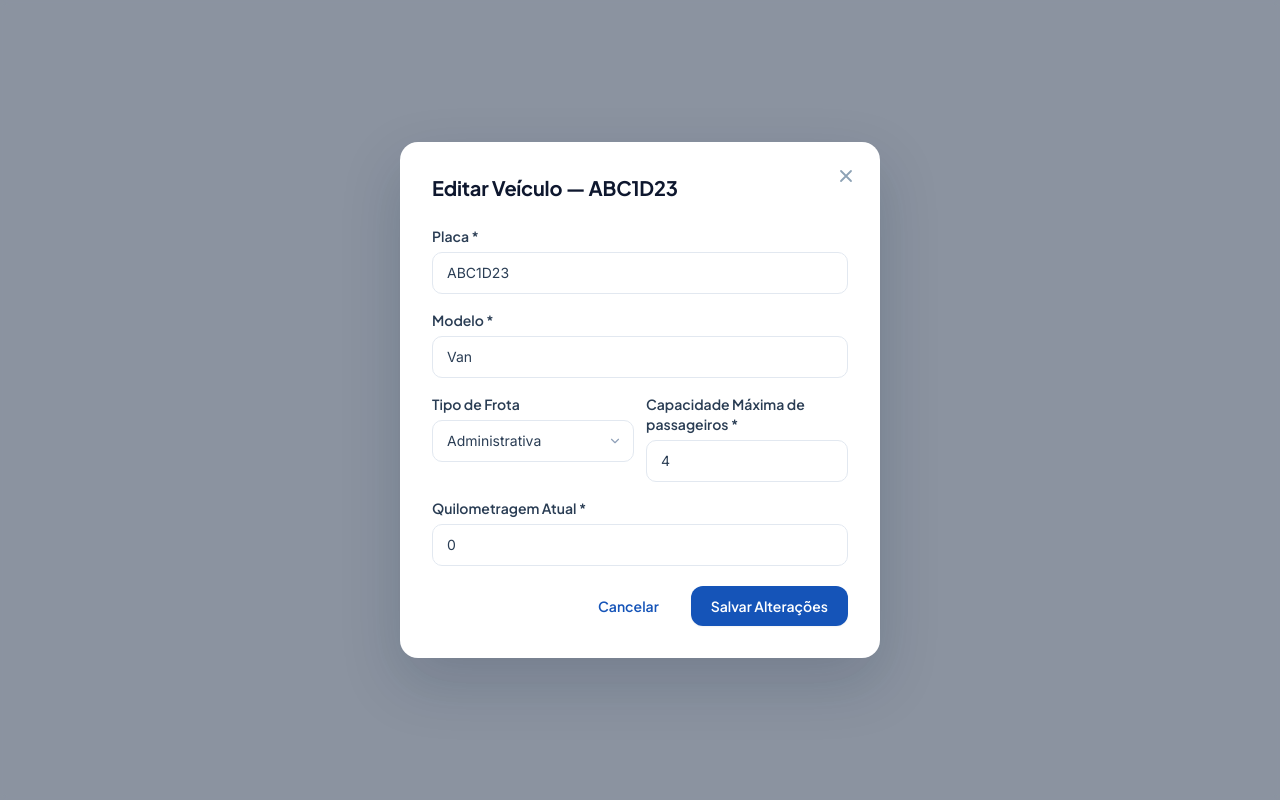
it: ModalVeiculo: duas capacidades SVO (SCRUM-173) › exige cabine ao converter veículo administrativo para SVO
Later steps or results of the test are not shown.
Select "SVO" in the dropdown labelled "Tipo de Frota" at (533, 441), box [432,420,634,462]
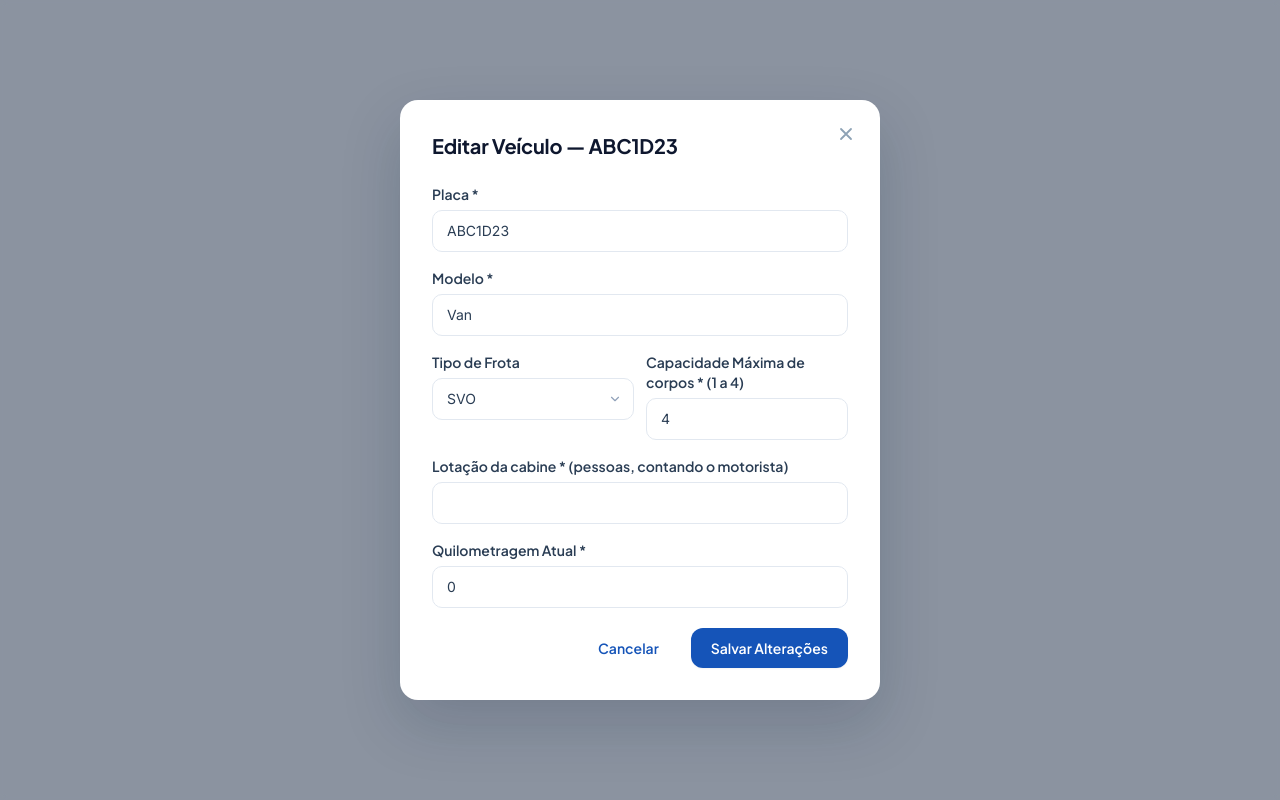
Click the button "Salvar Alterações" at (769, 648), box [691,628,848,668]
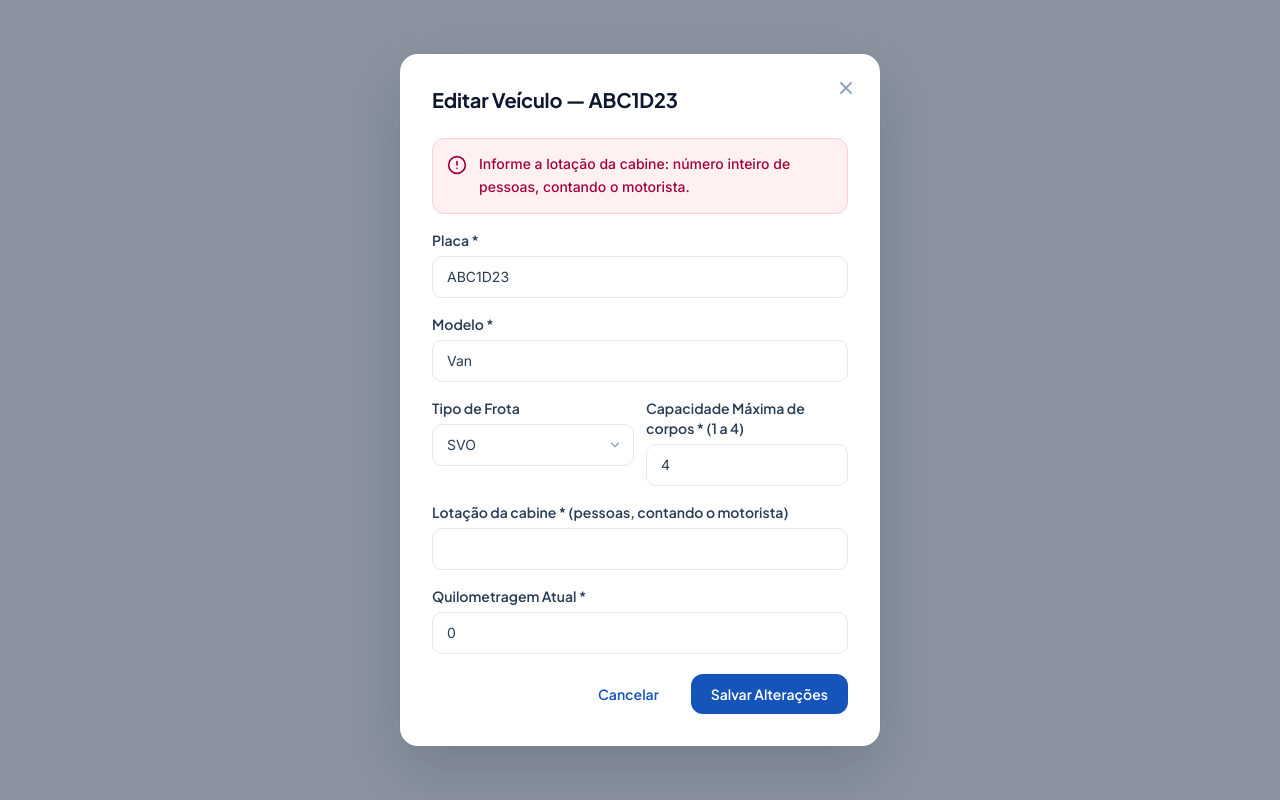
Result: the text "Informe a lotação da cabine" is shown at [479,155,790,195]
